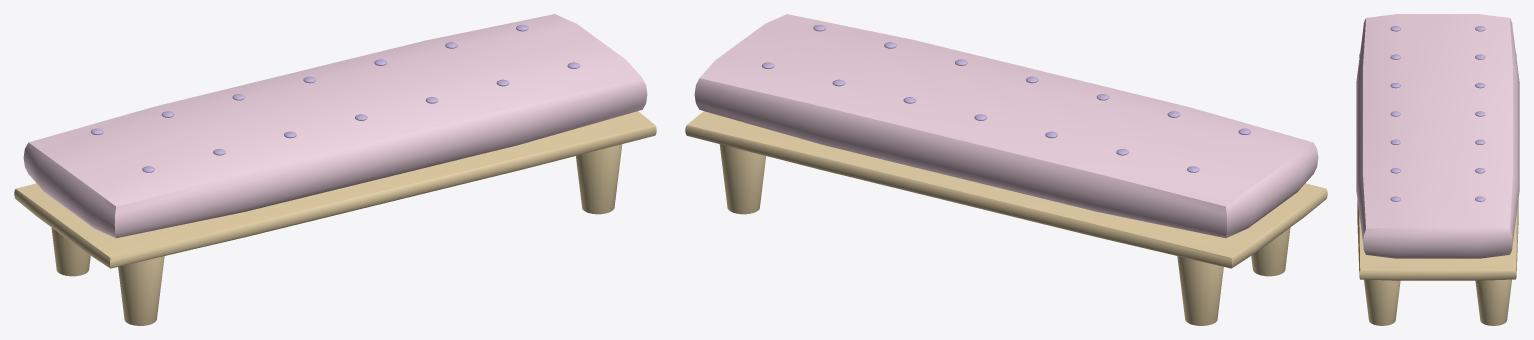
File: tufted_bench.glb
3 views of the same model, side by side, from view 1: azimuth 30°, elevation 25°; view 2: azimuth 150°, elevation 25°; view 3: azimuth 270°, elevation 25° (orthographic). The views are drawn at different scales.
Visible parts, largest first — view 1: seat, gold seat rim, leg (×3); view 2: seat, gold seat rim, leg (×3); view 3: seat, gold seat rim, leg (×2).
Part boxes in pixels (x1,y1,x2,y2): seat: [23, 14, 647, 238]; gold seat rim: [14, 111, 656, 268]; leg (×3): [51, 144, 622, 325]; seat: [694, 14, 1318, 238]; gold seat rim: [685, 111, 1327, 268]; leg (×3): [719, 144, 1290, 325]; seat: [1356, 14, 1519, 258]; gold seat rim: [1357, 53, 1518, 280]; leg (×2): [1364, 279, 1511, 325].
Size of the model in its own units: 2.72 by 0.668 by 0.85.
